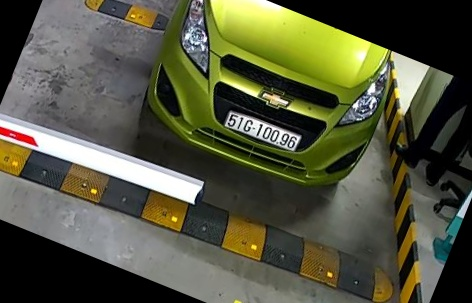plate: (222, 111, 305, 156)
